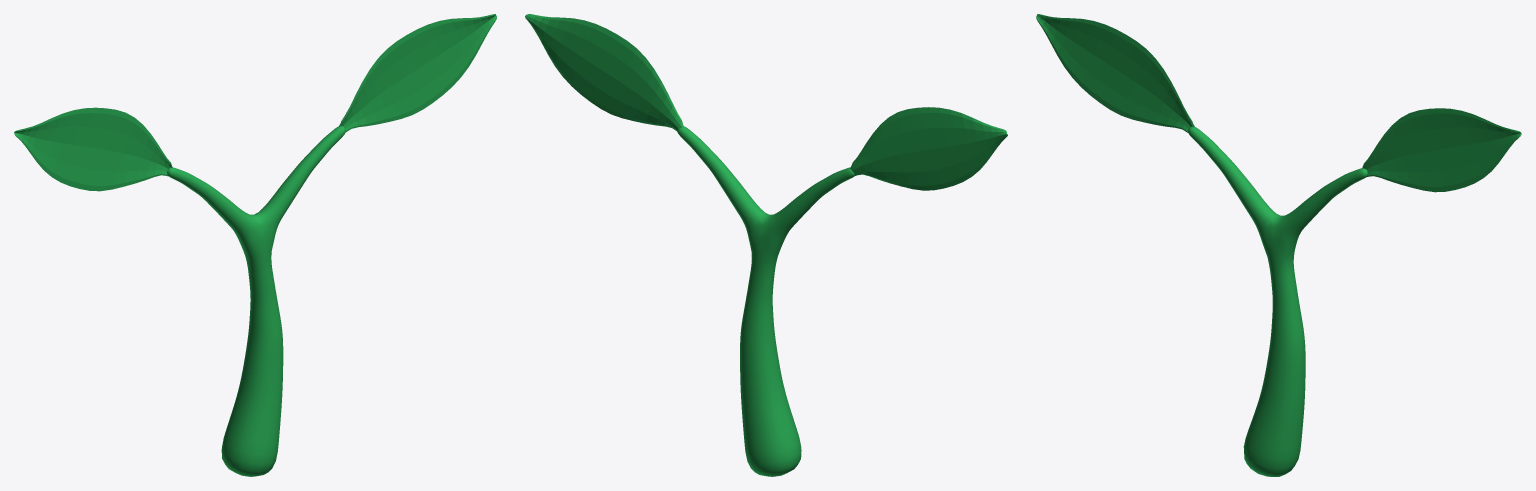
Rendered from Sprute_Phase2.fbx.
The picture shows the model from 3 angles, left to right: view 1: azimuth 30°, elevation 25°; view 2: azimuth 150°, elevation 25°; view 3: azimuth 330°, elevation 25°; orthographic projection.
Visible parts, largest first — view 1: Sprut_Phase1; view 2: Sprut_Phase1; view 3: Sprut_Phase1.
Boxes of the visible parts, box(x1,y1,x2,y2) form: Sprut_Phase1: box(14, 14, 496, 476); Sprut_Phase1: box(525, 14, 1007, 476); Sprut_Phase1: box(1036, 14, 1521, 476).
Bounding box in the file's own units: 28.32 × 22.83 × 2.81.
